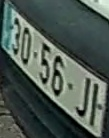0: (19, 26, 32, 65)
3: (10, 16, 22, 55)
5: (37, 40, 51, 86)
6: (49, 54, 66, 97)
I: (87, 81, 100, 129)
J: (74, 76, 92, 119)
